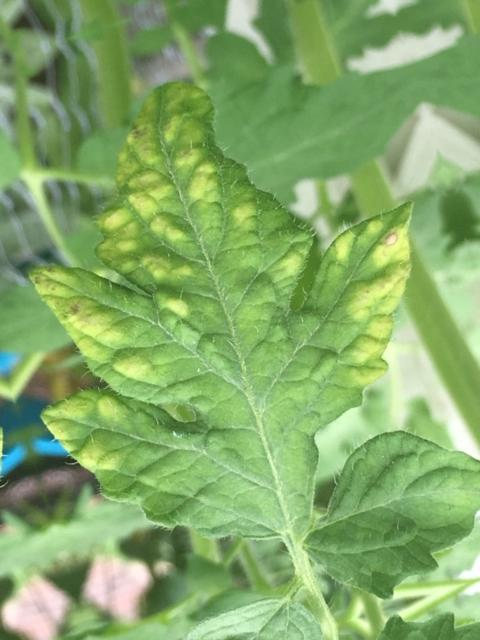Tomato leaf bacterial spot: (0, 1, 480, 620)
